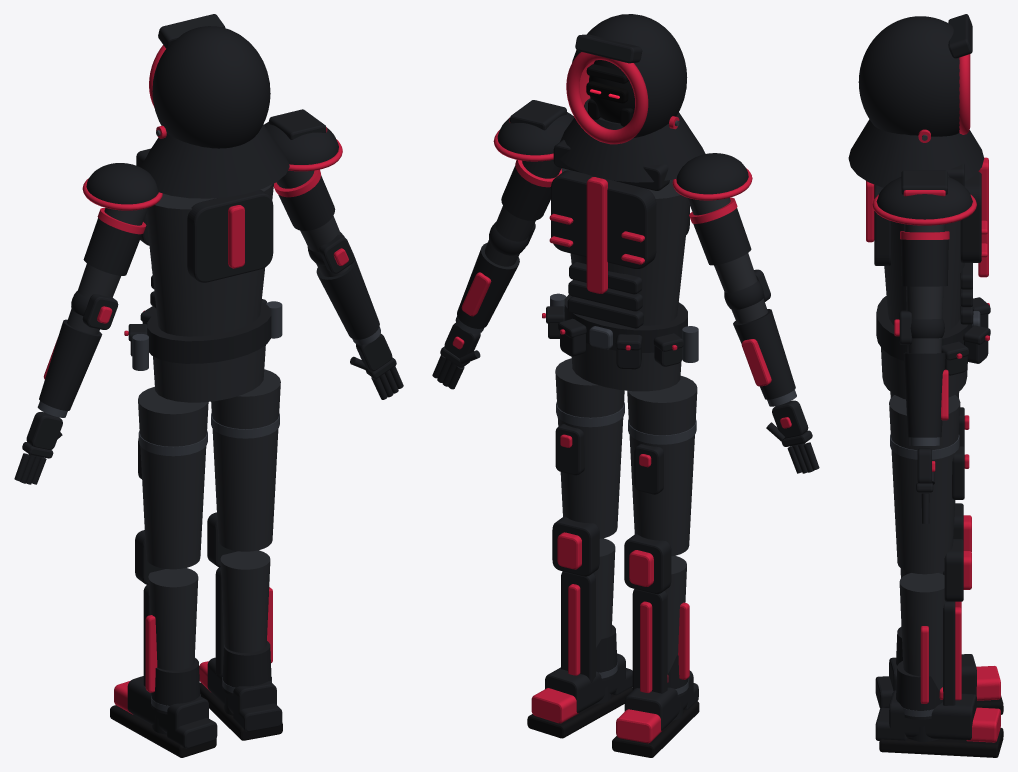
The model's file is crimson_wraith.glb.
The picture shows the model from 3 angles, left to right: view 1: azimuth 30°, elevation 25°; view 2: azimuth 150°, elevation 25°; view 3: azimuth 270°, elevation 25°; orthographic projection.
Visible parts, largest first — view 1: Hood_Outer, Thigh_R, Thigh_L, Suit_Upper, Cowl_Base, Back_Panel, Shin_Suit_L, Shin_Suit_R, Suit_Lower, Belt_Strap, Gauntlet_R, Gauntlet_L (+27 smaller); view 2: Thigh_R, Thigh_L, Chest_Shell, Cowl_Base, Hood_Outer, Suit_Upper, Suit_Lower, Hood_Lip_Red, Shin_Guard_R, Crimson_Centre_Strip, Shin_Guard_L, Gauntlet_R (+40 smaller); view 3: Hood_Outer, Thigh_L, Cowl_Base, Shin_Suit_L, Gauntlet_L, Suit_Upper, Boot_Body_L, Shoulder_Pad_L, UpperArm_Guard_L, Boot_Sole_L, UpperArm_L, Chest_Shell (+33 smaller).
Part boxes in pixels (x1=…): Hood_Outer: x1=152, y1=26, x2=270, y2=148; Thigh_R: x1=138, y1=386, x2=208, y2=569; Thigh_L: x1=211, y1=369, x2=280, y2=551; Suit_Upper: x1=146, y1=183, x2=273, y2=336; Cowl_Base: x1=140, y1=124, x2=289, y2=198; Back_Panel: x1=187, y1=189, x2=273, y2=282; Shin_Suit_L: x1=220, y1=550, x2=270, y2=652; Shin_Suit_R: x1=148, y1=568, x2=198, y2=670; Suit_Lower: x1=153, y1=345, x2=265, y2=402; Belt_Strap: x1=147, y1=302, x2=271, y2=363; Gauntlet_R: x1=39, y1=319, x2=102, y2=410; Gauntlet_L: x1=316, y1=257, x2=379, y2=339; Thigh_R: x1=627, y1=376, x2=697, y2=556; Thigh_L: x1=555, y1=358, x2=624, y2=538; Chest_Shell: x1=551, y1=170, x2=656, y2=268; Cowl_Base: x1=559, y1=98, x2=705, y2=182; Hood_Outer: x1=572, y1=14, x2=687, y2=137; Suit_Upper: x1=561, y1=168, x2=689, y2=325; Suit_Lower: x1=571, y1=343, x2=681, y2=391; Hood_Lip_Red: x1=566, y1=52, x2=648, y2=144; Shin_Guard_R: x1=632, y1=589, x2=667, y2=693; Crimson_Centre_Strip: x1=586, y1=177, x2=607, y2=293; Shin_Guard_L: x1=561, y1=571, x2=595, y2=682; Gauntlet_R: x1=733, y1=309, x2=795, y2=399; Hood_Outer: x1=858, y1=16, x2=959, y2=136; Thigh_L: x1=889, y1=395, x2=960, y2=574; Cowl_Base: x1=848, y1=119, x2=984, y2=187; Shin_Suit_L: x1=899, y1=573, x2=946, y2=690; Gauntlet_L: x1=903, y1=352, x2=945, y2=437; Suit_Upper: x1=884, y1=220, x2=964, y2=332; Boot_Body_L: x1=889, y1=690, x2=976, y2=740; Shoulder_Pad_L: x1=876, y1=176, x2=972, y2=219; UpperArm_Guard_L: x1=901, y1=239, x2=948, y2=286; Boot_Sole_L: x1=879, y1=728, x2=1003, y2=757; UpperArm_L: x1=904, y1=224, x2=945, y2=319; Chest_Shell: x1=960, y1=171, x2=981, y2=262.
Size of the model in its own units: 1.08 by 1.86 by 0.3688.
